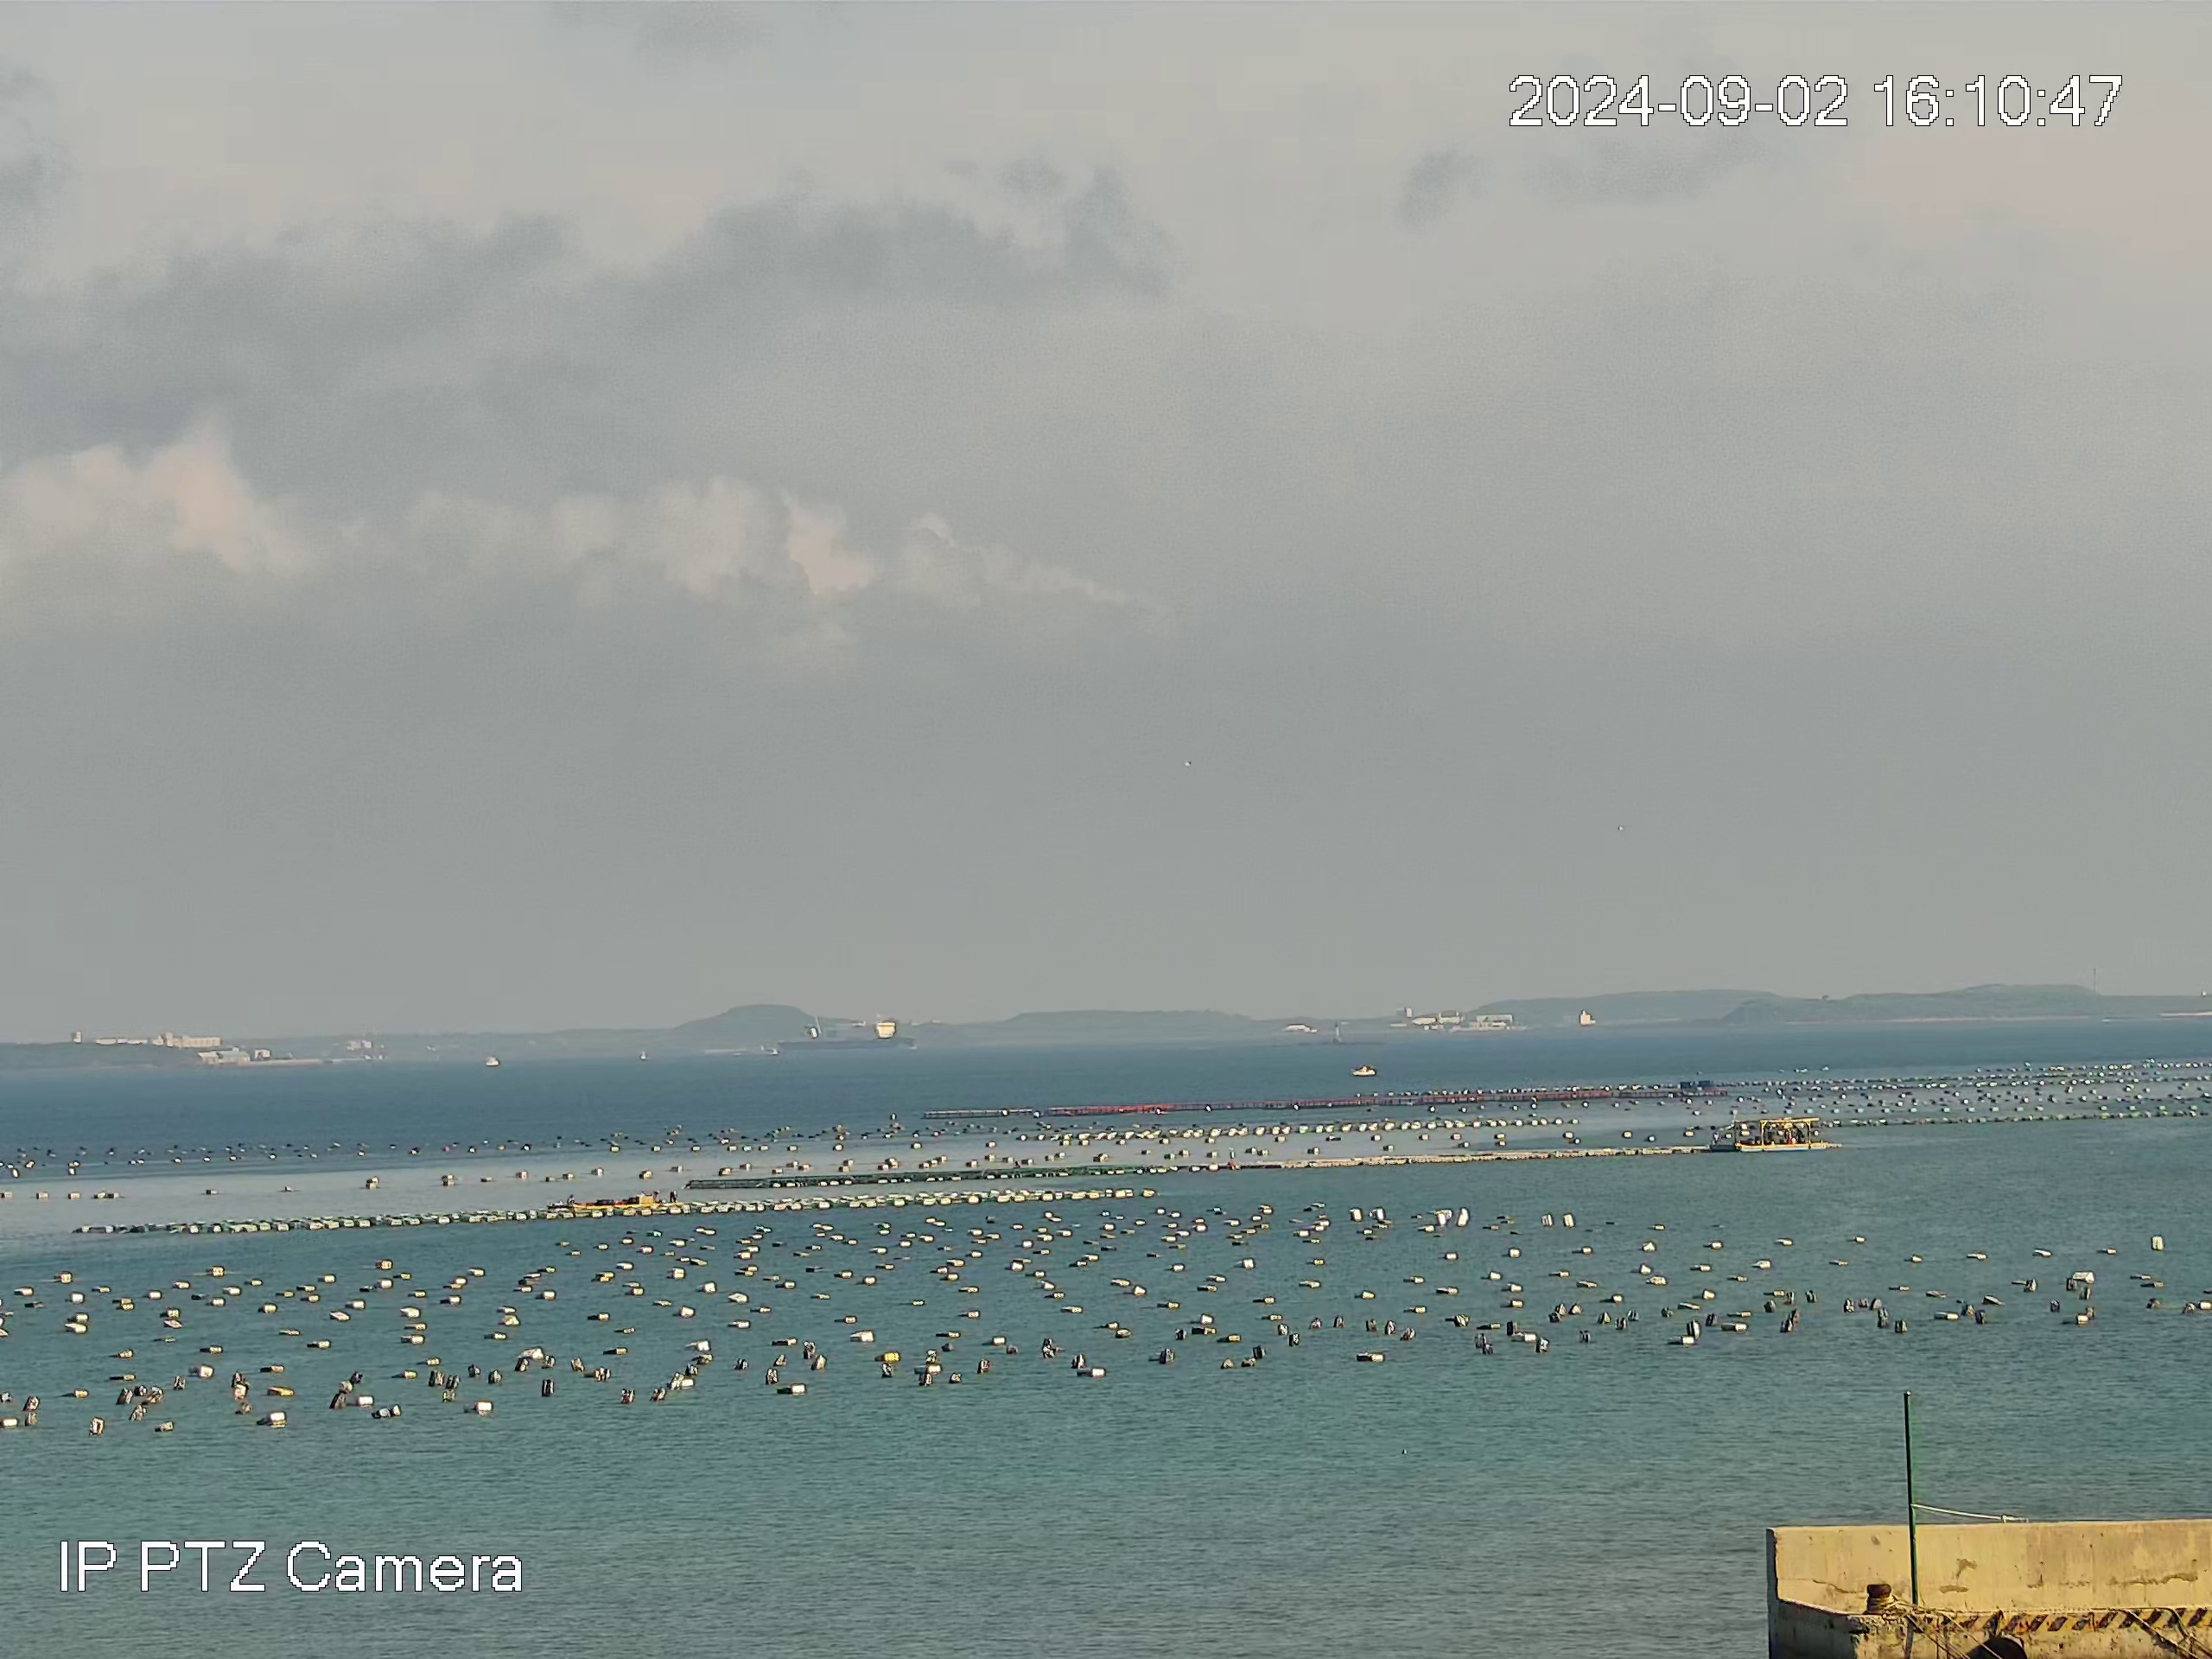boat: (775, 1020, 918, 1052), (1733, 1116, 1830, 1153), (569, 1188, 683, 1208), (1350, 1063, 1377, 1077)
